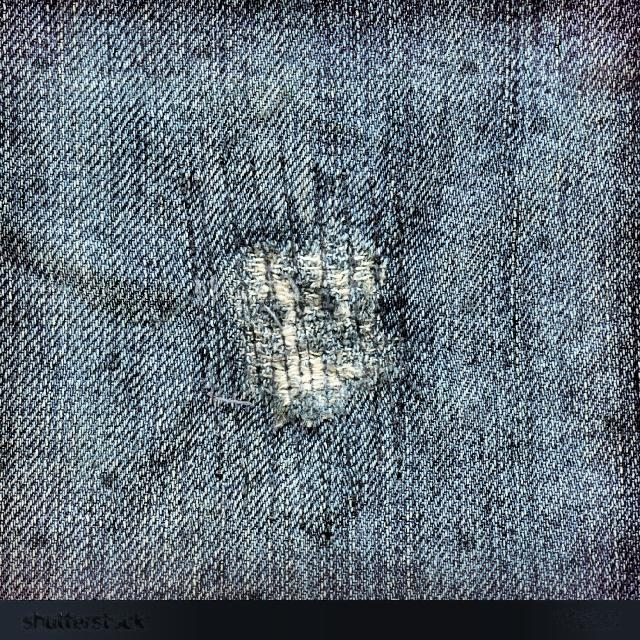Hole: (196, 215, 420, 450)
